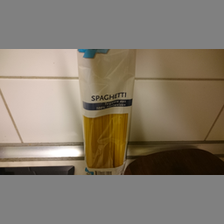pasta: (76, 49, 136, 175)
